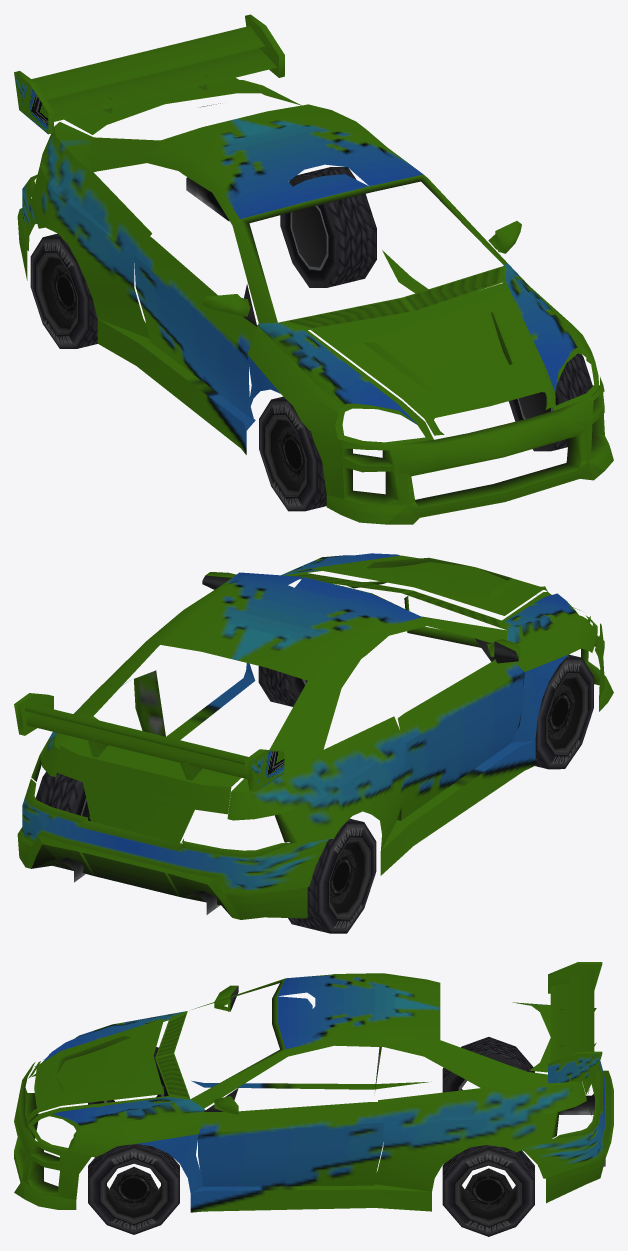
File: car-HSPC_Car21.glb
3 renders of one model, top to bottom at view 1: azimuth 30°, elevation 25°; view 2: azimuth 150°, elevation 25°; view 3: azimuth 270°, elevation 25°, orthographic. The views are drawn at different scales.
Visible parts, largest first — view 1: HSPC_Car21; view 2: HSPC_Car21; view 3: HSPC_Car21.
Boxes of the visible parts, bbox=[...] form: HSPC_Car21: bbox=[14, 14, 613, 524]; HSPC_Car21: bbox=[14, 553, 613, 933]; HSPC_Car21: bbox=[14, 962, 613, 1236].
Size of the model in its own units: 1.96 by 1.34 by 4.05.
Materials: 19 (19 with a texture image).
